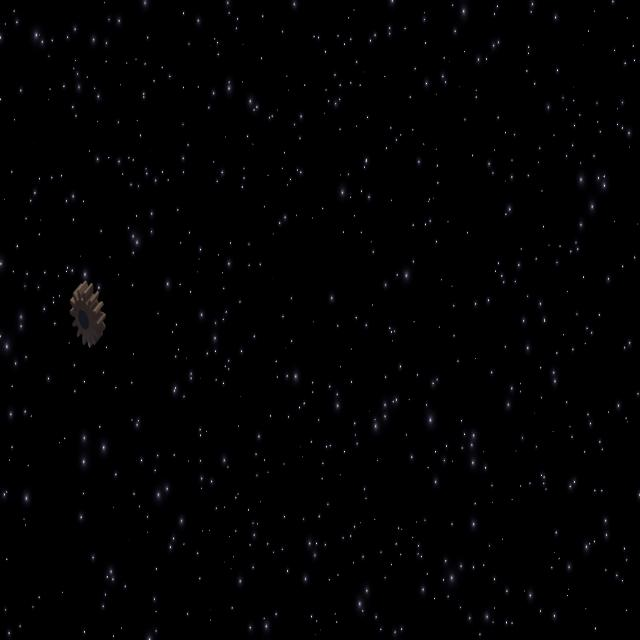large_debris: (69, 271, 105, 359)
